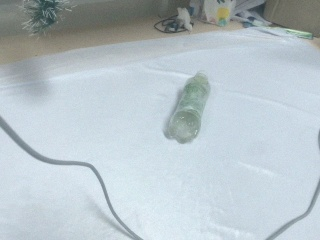bottle: (163, 71, 211, 144)
box: (263, 1, 320, 39)
